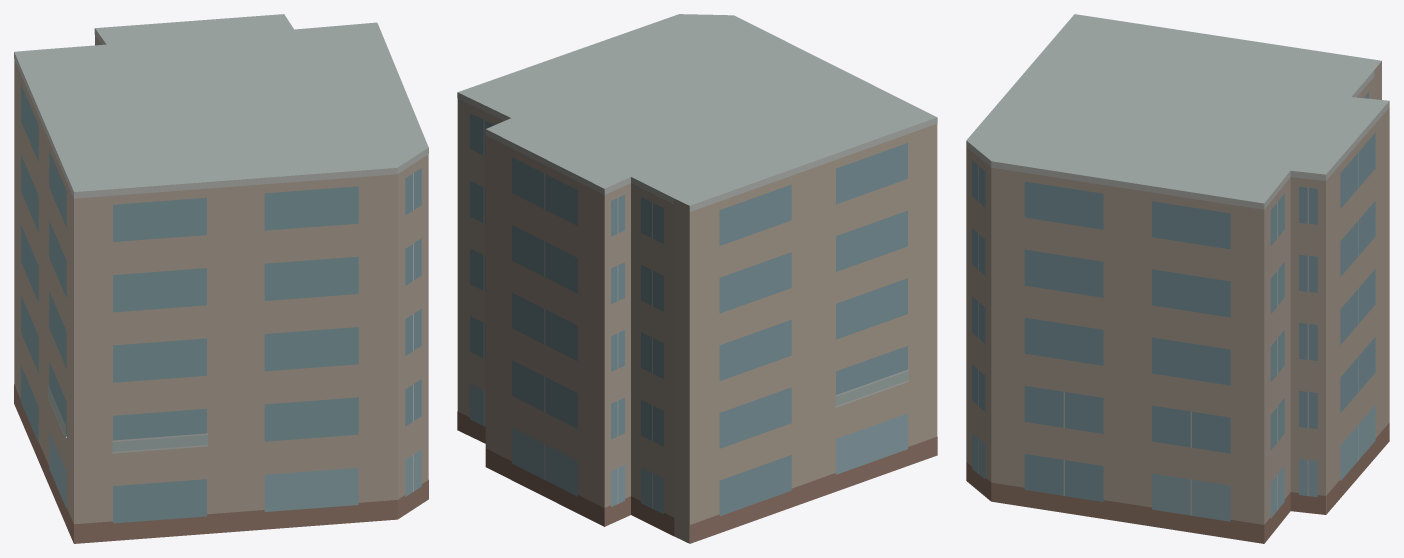
The model's file is survey-upis-32952988.glb.
3 views of the same model, side by side, from view 1: azimuth 30°, elevation 25°; view 2: azimuth 150°, elevation 25°; view 3: azimuth 270°, elevation 25° (orthographic). The views are drawn at different scales.
Parts seen in each view (by area): view 1: survey-upis-32952988.tmp; view 2: survey-upis-32952988.tmp; view 3: survey-upis-32952988.tmp.
Boxes of the visible parts, x1=… form: survey-upis-32952988.tmp: x1=14, y1=14, x2=428, y2=543; survey-upis-32952988.tmp: x1=457, y1=14, x2=937, y2=543; survey-upis-32952988.tmp: x1=966, y1=14, x2=1389, y2=543.
Bounding box in the file's own units: 15.77 × 13.2 × 14.89.
